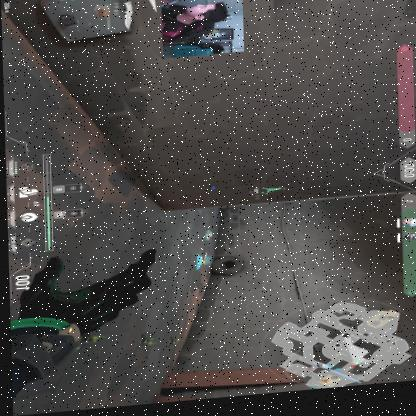streamer: (160, 0, 228, 45)
